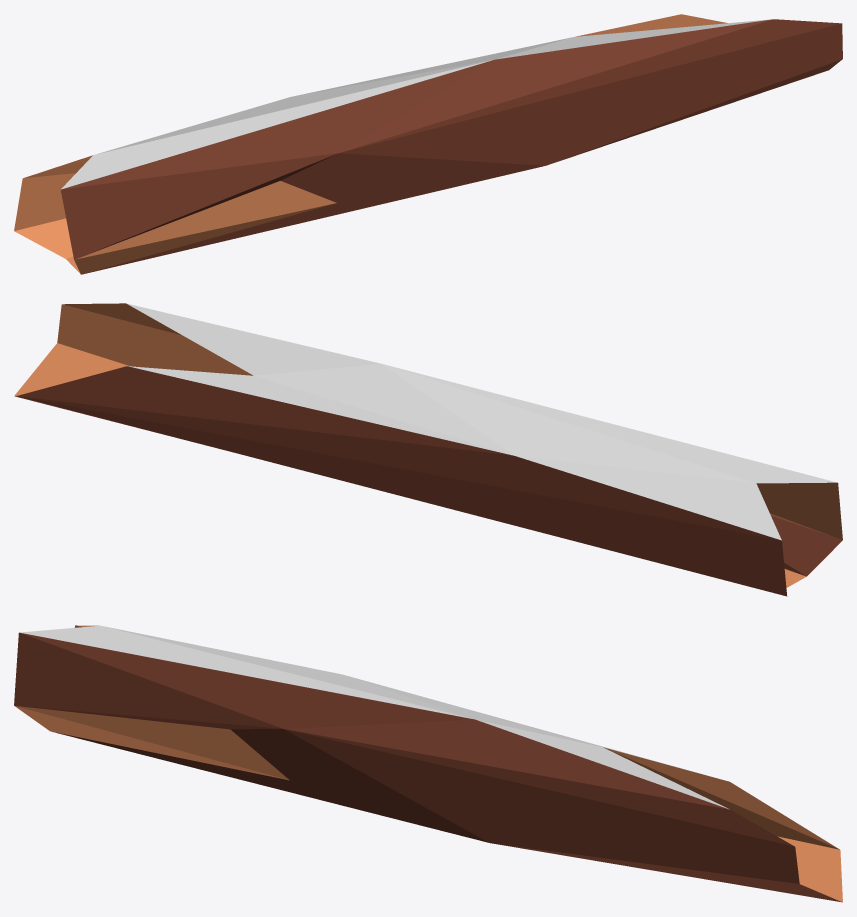
The model's file is pine_trunk_type_12_extra_LOD2.fbx.
3 renders of one model, top to bottom at view 1: azimuth 30°, elevation 25°; view 2: azimuth 150°, elevation 25°; view 3: azimuth 330°, elevation 25°, orthographic.
Parts seen in each view (by area): view 1: pt_type_12.001; view 2: pt_type_12.001; view 3: pt_type_12.001.
Part boxes in pixels (x1,y1,x2,y2): pt_type_12.001: (14,14,842,274); pt_type_12.001: (14,303,842,596); pt_type_12.001: (14,625,842,902).
Size of the model in its own units: 628 by 85.26 by 81.08.
